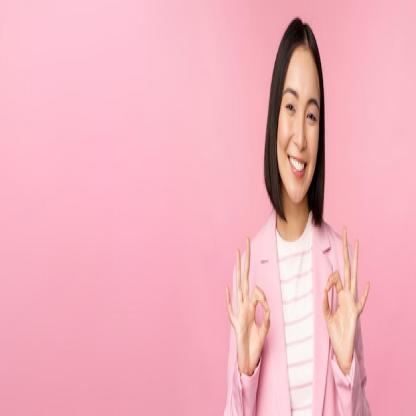ok: (322, 222, 372, 374), (224, 232, 272, 382)
